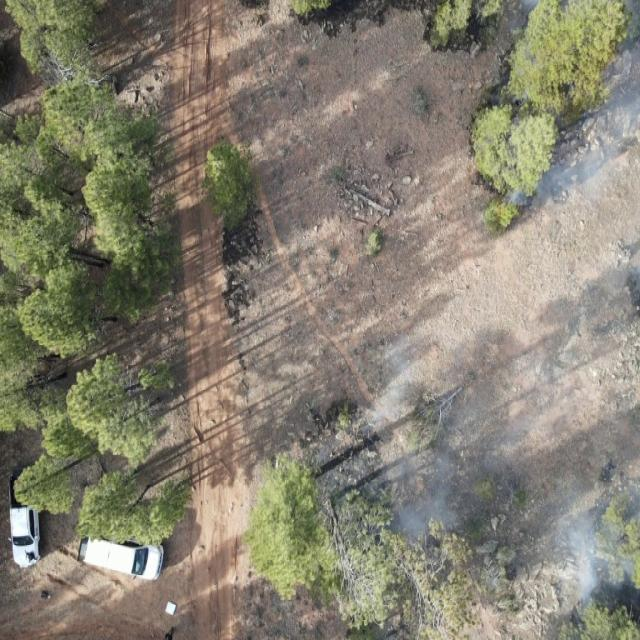smoke: (359, 324, 640, 610), (505, 0, 640, 211)
